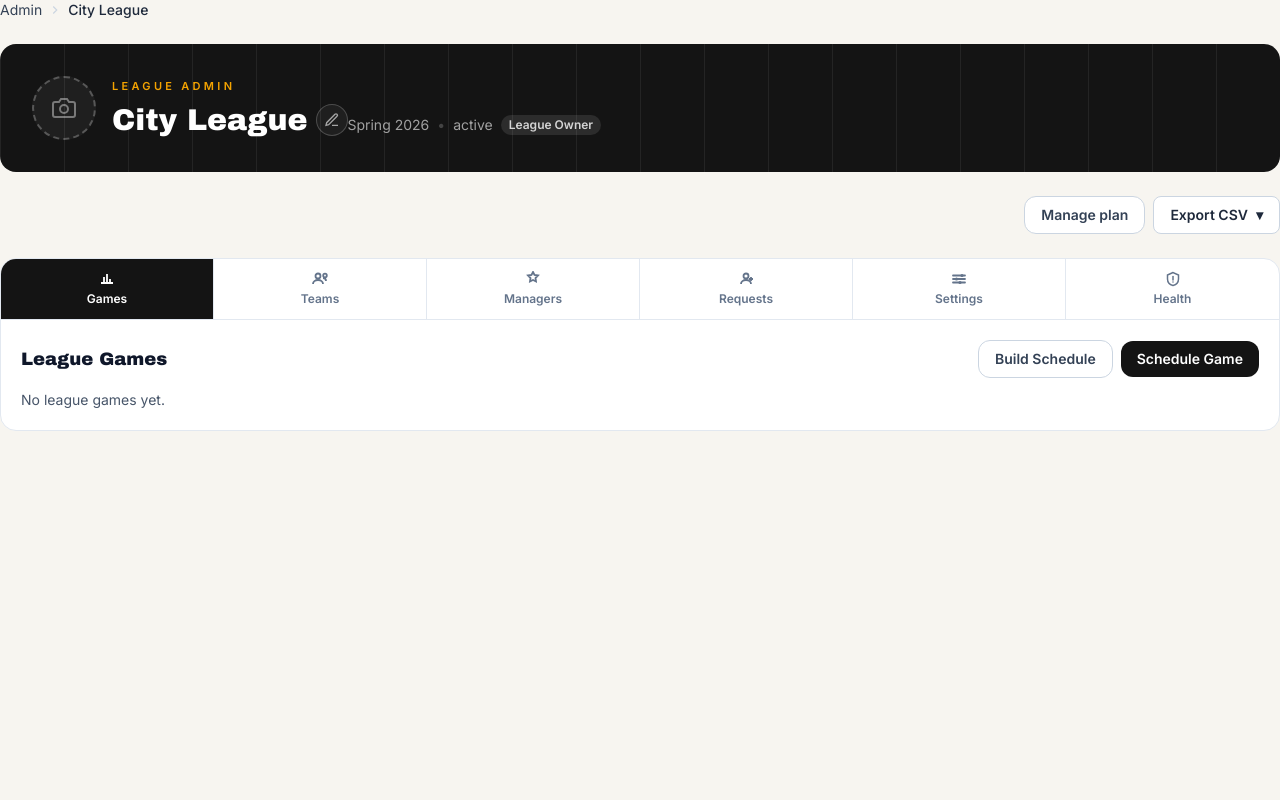
it: AdminLeaguePage › shows the Complete Season control to a league owner with an active season
The width and height of the screenshot is (1280, 800).
Click the tab "Settings": click(960, 289) [853,259,1066,319]
(page scrolled)
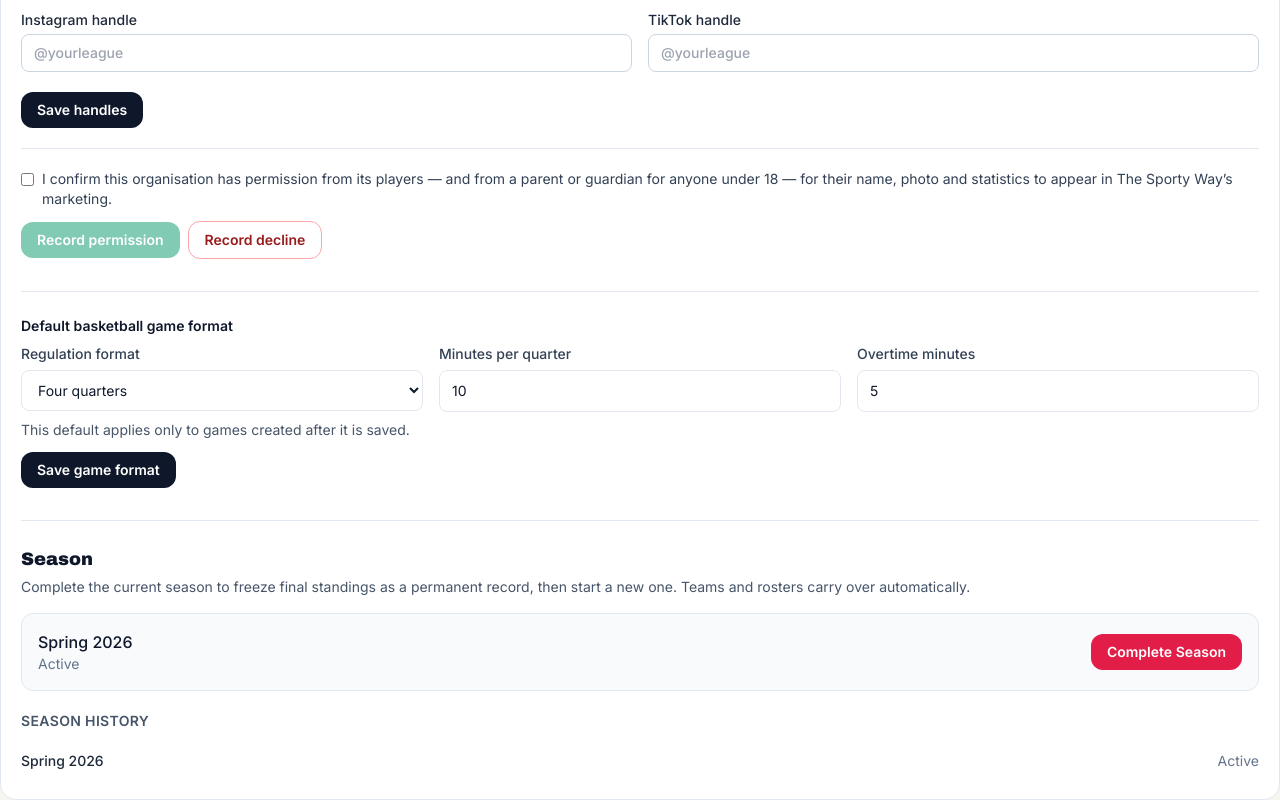
Check: the button "Complete Season" is shown, box [1091,634,1242,670]
